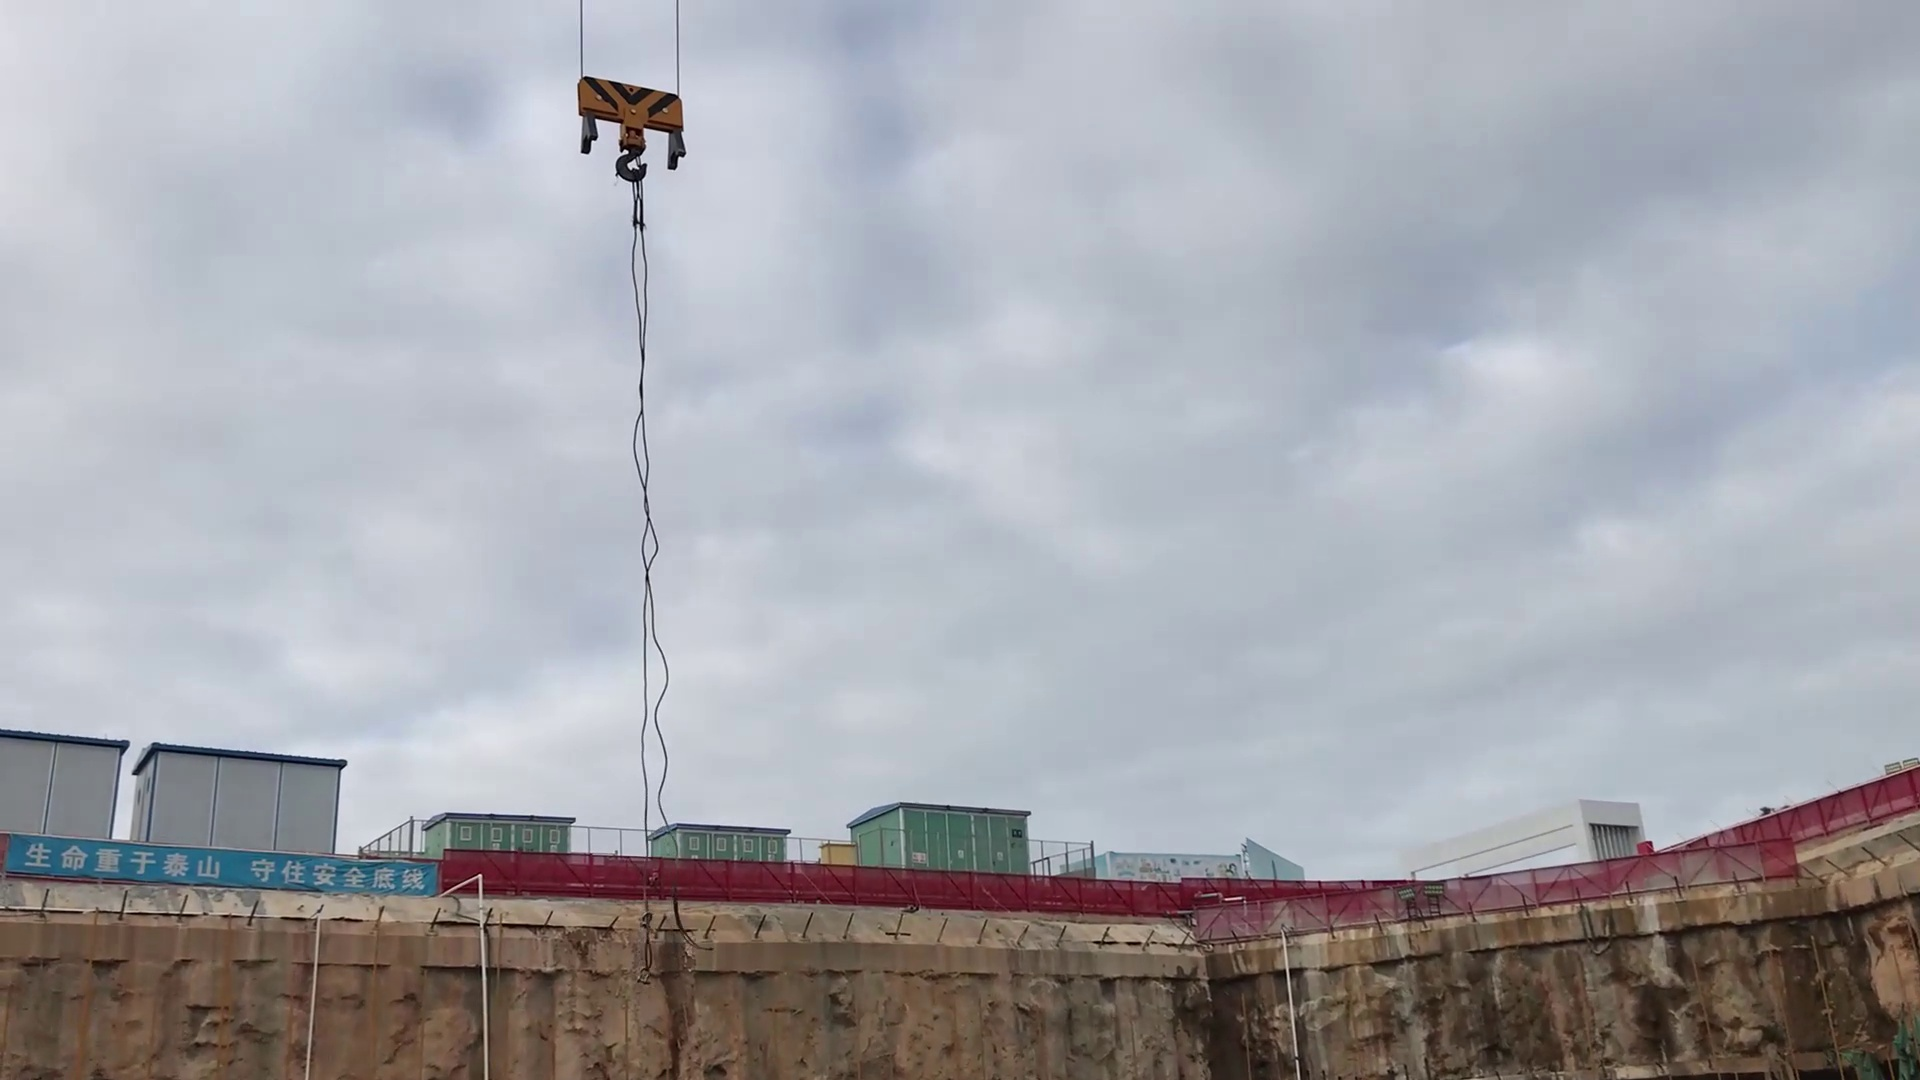hook: (566, 67, 695, 191)
slogan: (7, 831, 436, 898)
